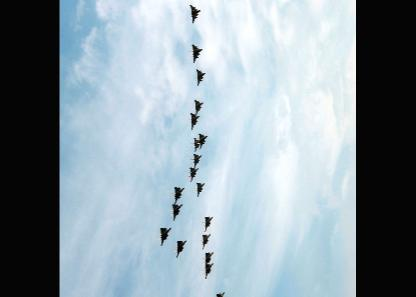EF2000: (188, 41, 203, 62), (156, 225, 171, 244), (172, 238, 187, 256), (186, 2, 200, 21), (168, 202, 183, 219), (170, 184, 184, 202), (192, 67, 205, 84), (187, 111, 200, 128), (200, 261, 213, 278), (200, 249, 213, 266), (200, 213, 212, 230), (192, 98, 204, 114), (196, 132, 208, 148), (198, 232, 210, 248), (190, 151, 202, 166), (186, 165, 198, 180), (192, 180, 204, 195), (191, 135, 200, 150), (211, 289, 224, 296)
